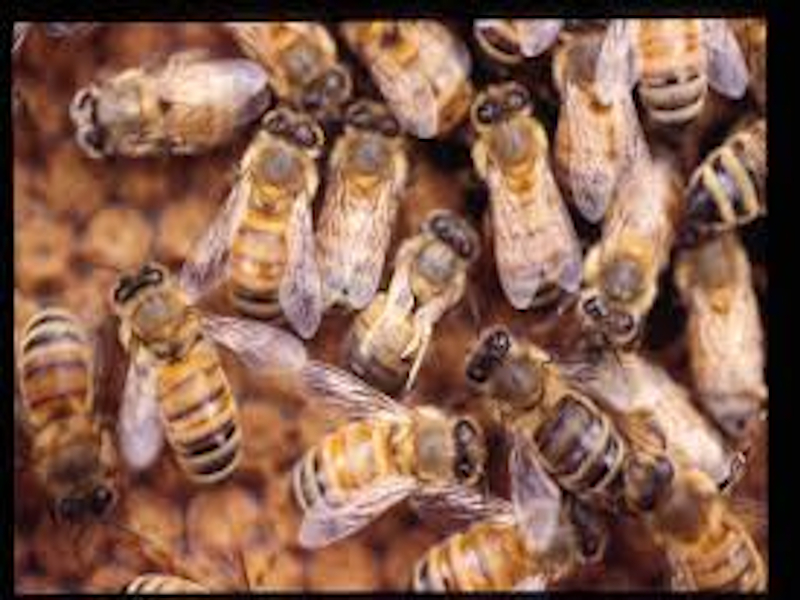abeja: (101, 258, 271, 485), (465, 316, 654, 514), (442, 68, 596, 306), (260, 387, 498, 531), (201, 96, 331, 335), (2, 301, 140, 517), (363, 204, 493, 371), (56, 59, 269, 152)
